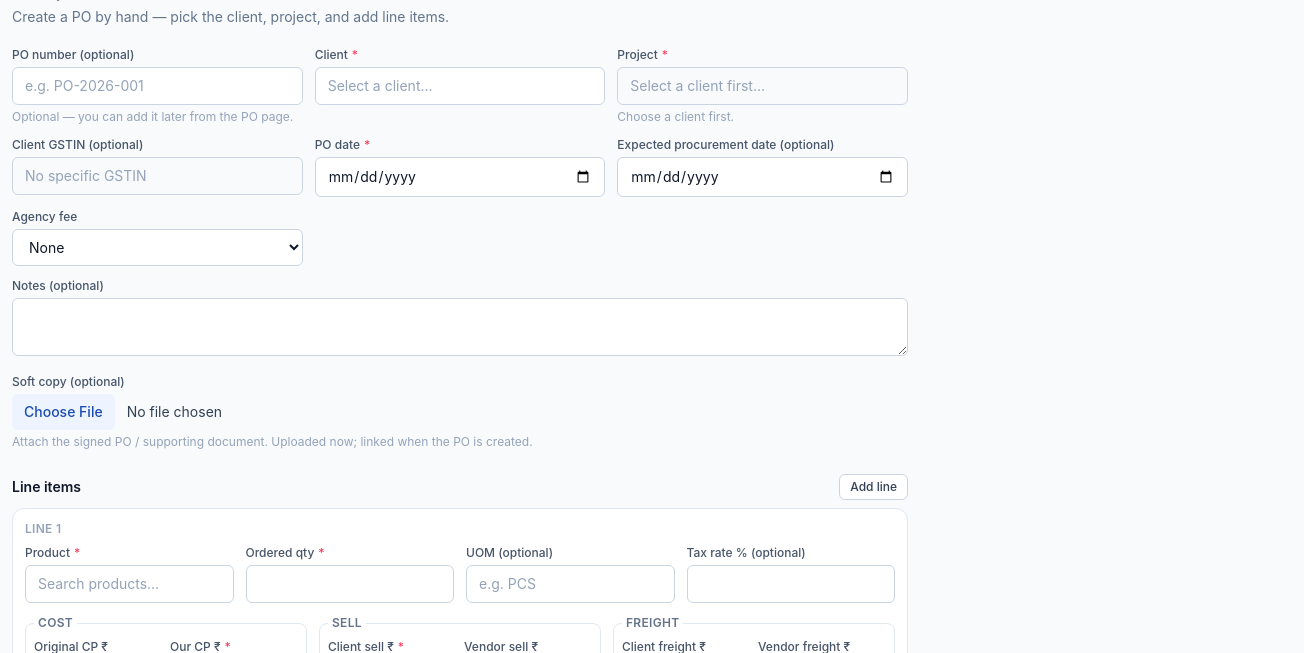
PO create form — load this project's products (template pre-fill) › an ADMIN also gets the actual sell/freight pre-filled from the template
The width and height of the screenshot is (1304, 653).
Check: the field labelled "PO number" is shown, box [12,67,303,105]
Focus the dropdown labelled "Client *". click: (460, 86)
box: [315,67,605,105]
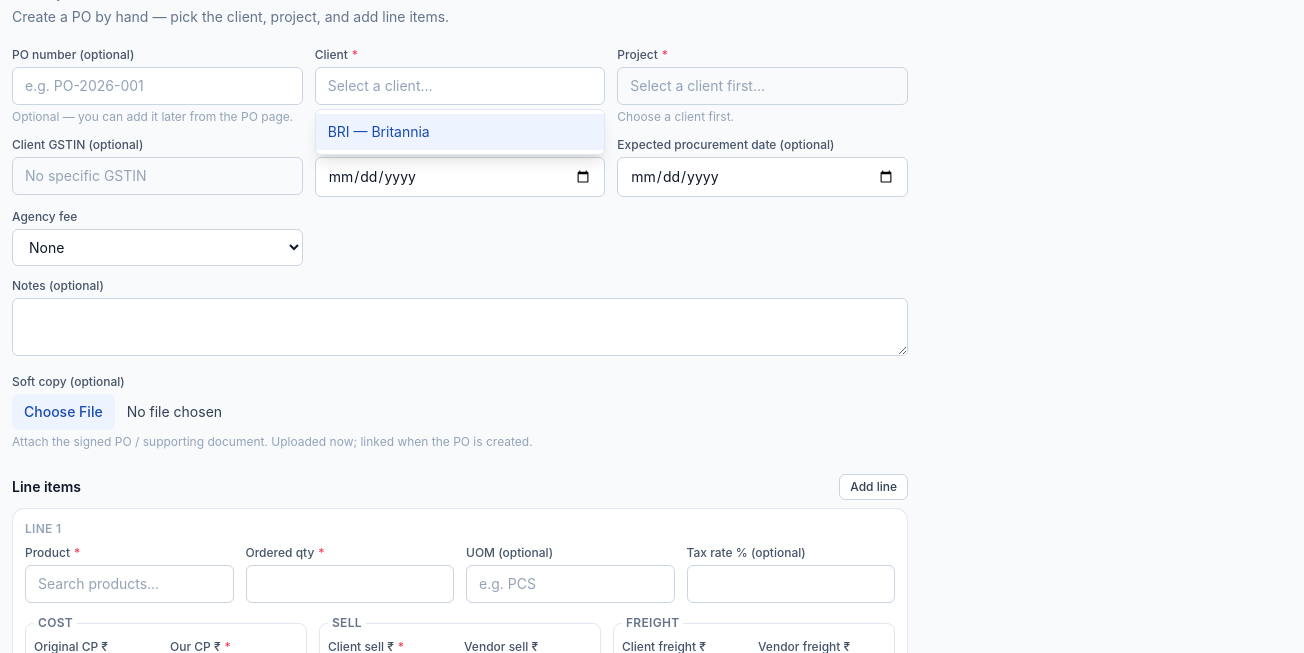
Press the mouse on the option "BRI — Britannia" at (379, 132), box [316,114,604,150]
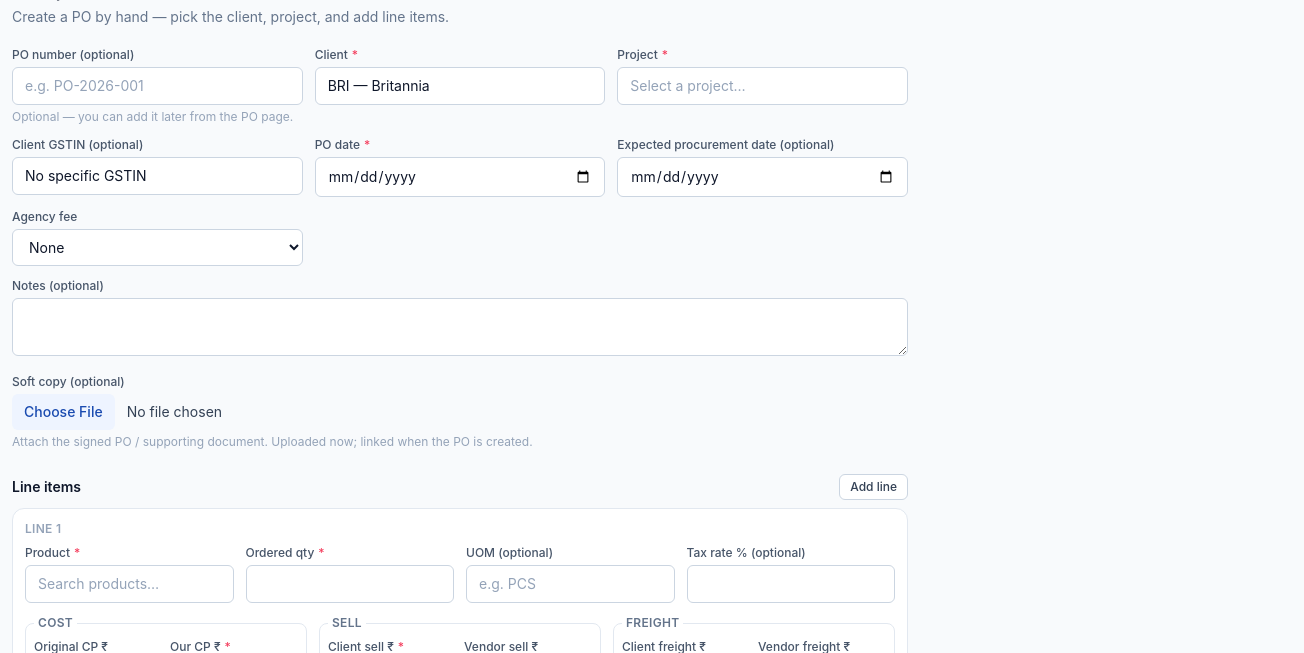
Check: the dropdown labelled "Project *" is enabled
Focus the dropdown labelled "Project *". click: (763, 86)
box: [617,67,908,105]
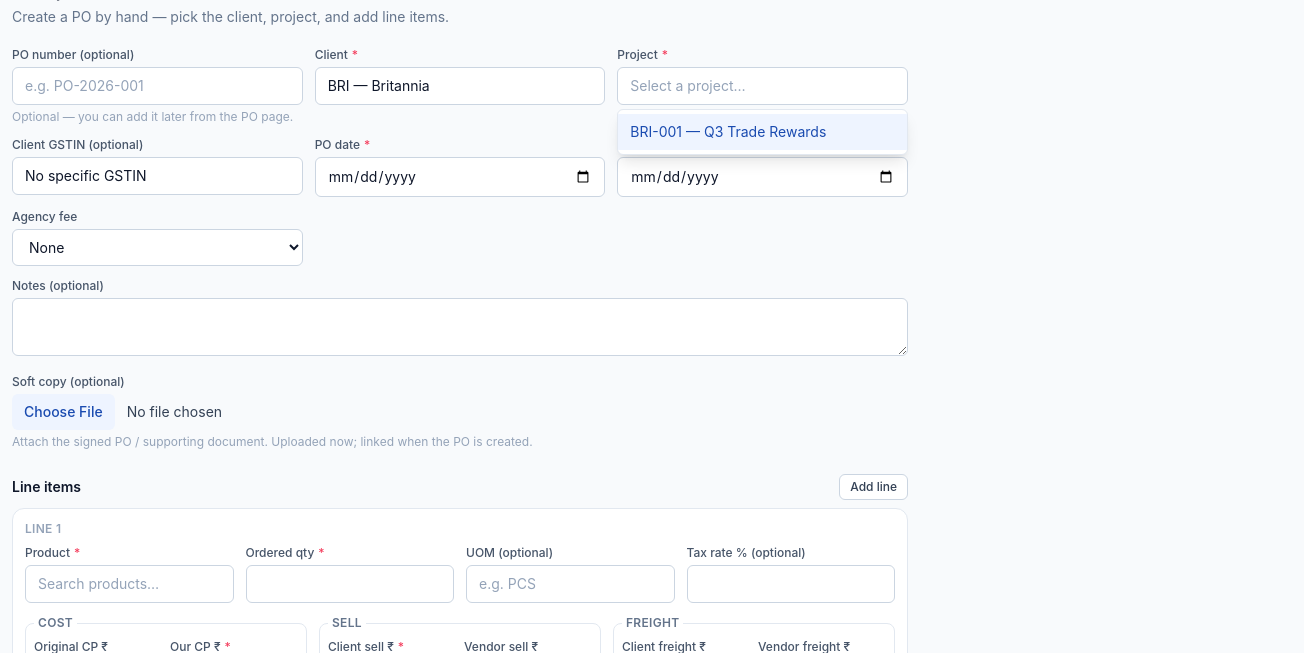
Press the mouse on the option "BRI-001 — Q3 Trade Rewards" at (763, 132), box [618,114,907,150]
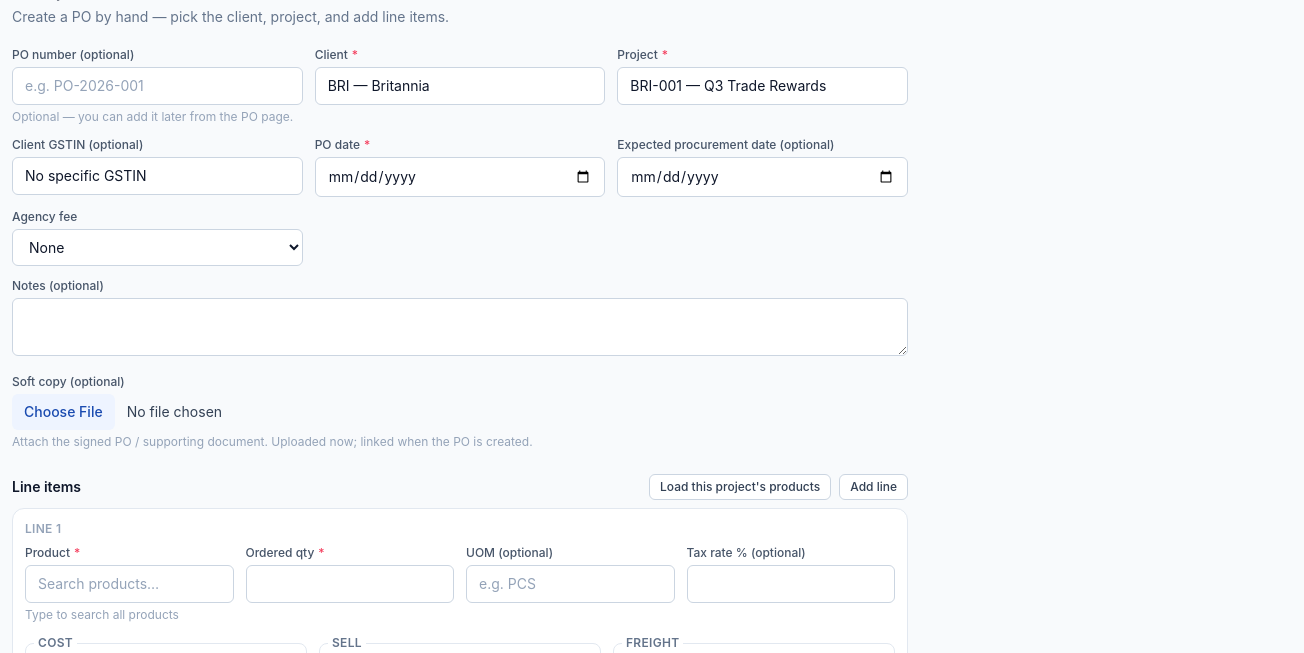
Click the button "Load this project's products". click: (740, 487)
box: [649,474,831,500]
(page scrolled)
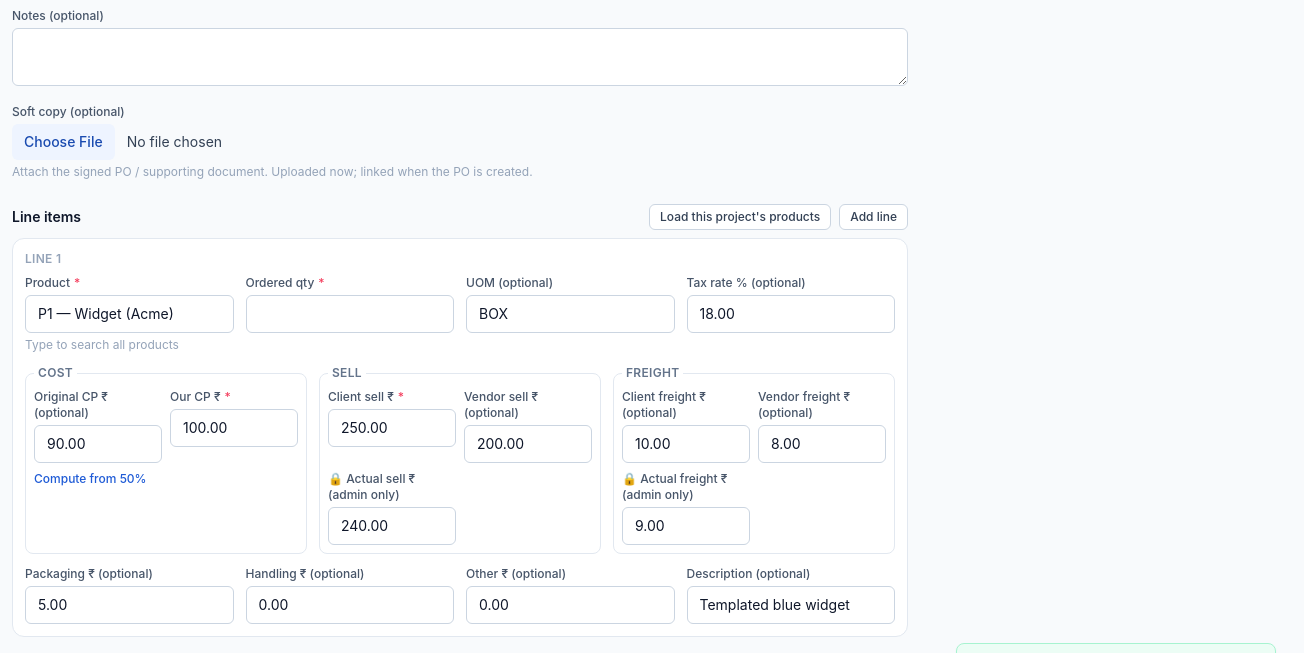
Check: the field labelled "🔒 Actual sell ₹ (admin only)" holds "240.00", box [328,507,456,545]
Check: the field labelled "🔒 Actual freight ₹ (admin only)" holds "9.00", box [622,507,750,545]
